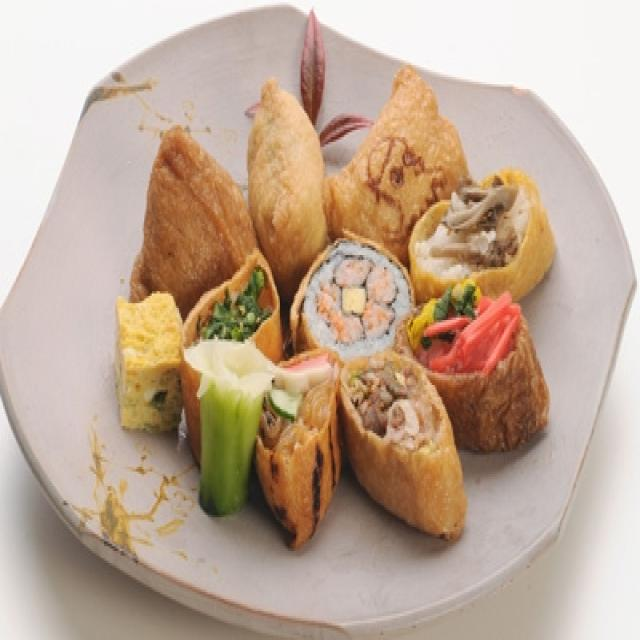寿司卷物: (40, 29, 603, 597)
